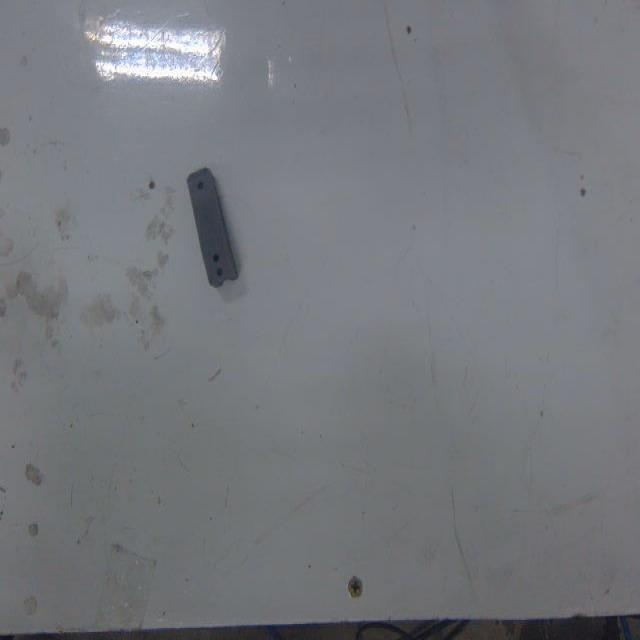grey: (184, 167, 238, 287)
head: (196, 179, 205, 192)
